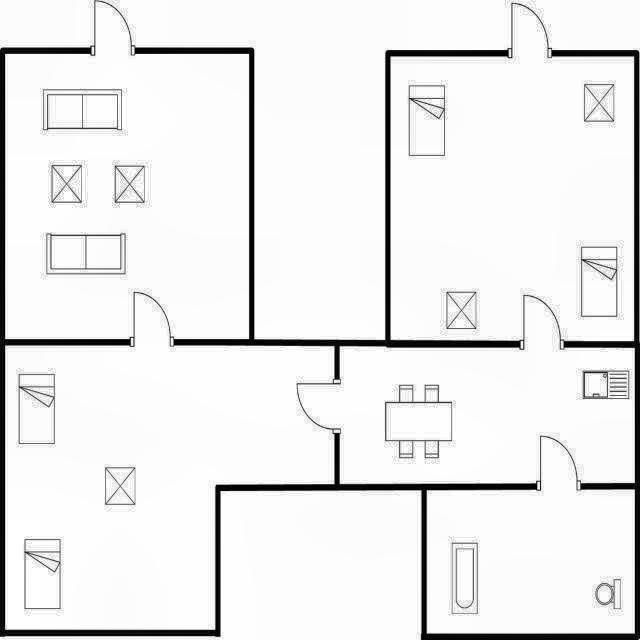room: (6, 346, 334, 630), (5, 54, 249, 339), (391, 56, 633, 339), (340, 348, 634, 483), (427, 490, 635, 633)
